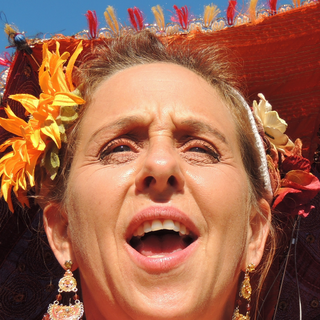eye: (99, 136, 144, 162), (176, 139, 221, 164)
